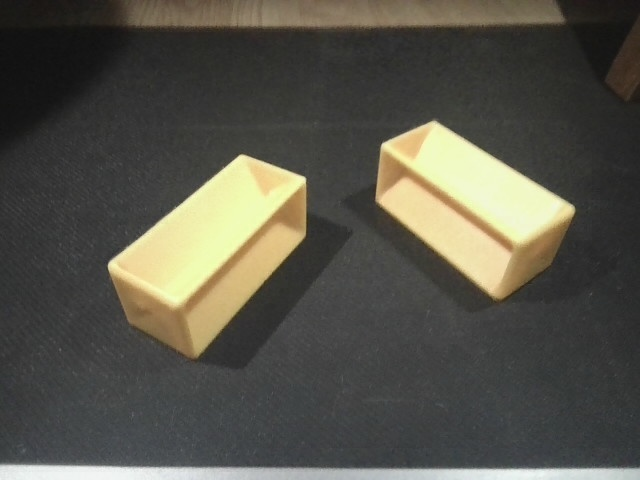YellowSample: (104, 150, 311, 361), (373, 119, 577, 306)
